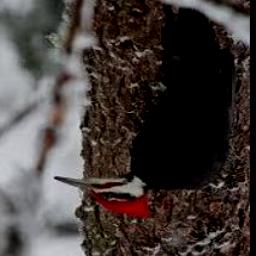Woodpecker: (54, 6, 228, 219)
